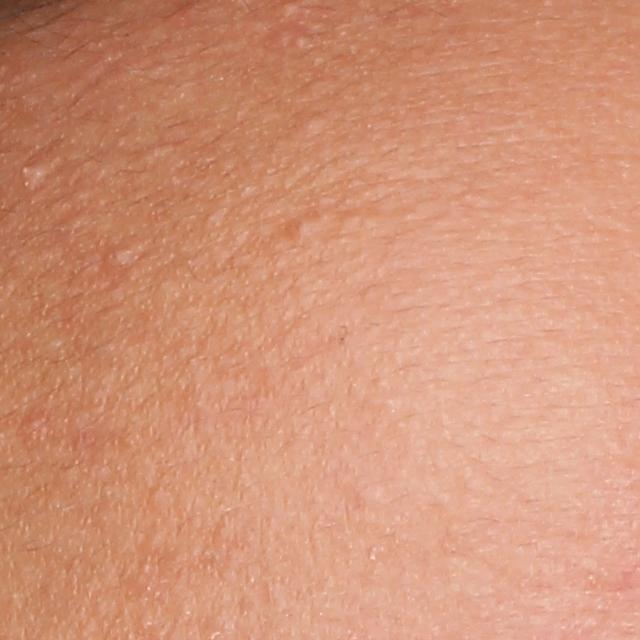comedo: (13, 157, 55, 193), (100, 244, 135, 282), (298, 112, 325, 138), (290, 216, 314, 241)
